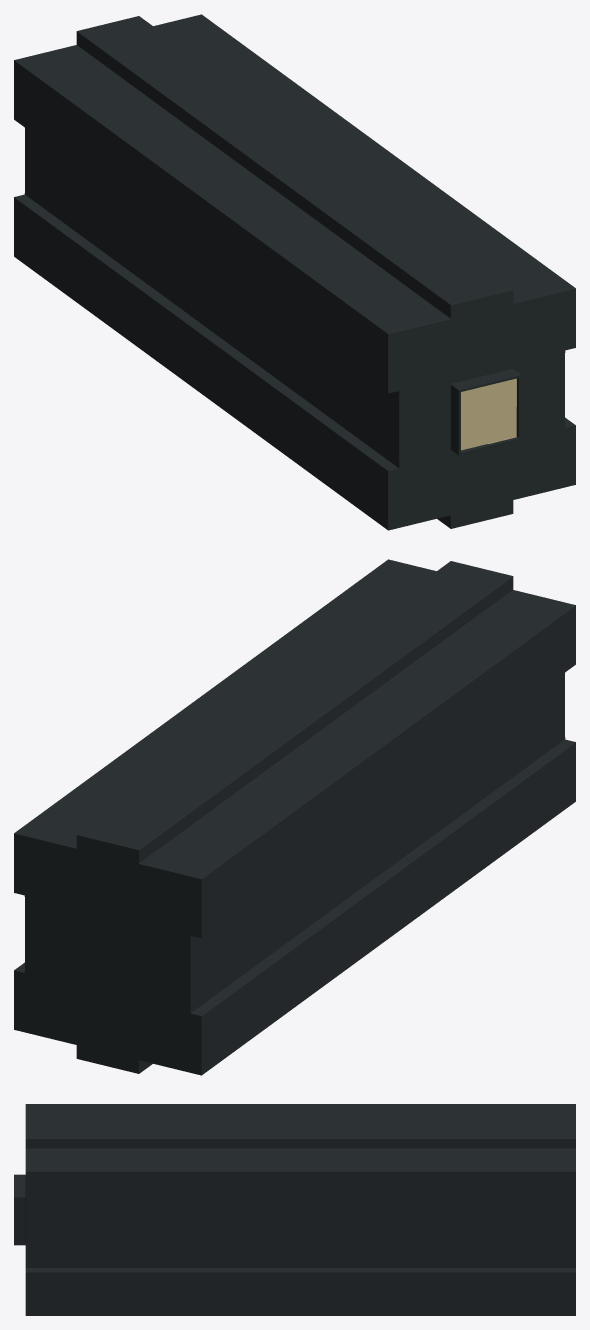
Rendered from h-block_2a.glb.
3 views of the same model, one above another, from view 1: azimuth 30°, elevation 25°; view 2: azimuth 150°, elevation 25°; view 3: azimuth 270°, elevation 25° (orthographic). The views are drawn at different scales.
Parts seen in each view (by area): view 1: Cube.009; view 2: Cube.009; view 3: Cube.009.
Part boxes in pixels (left/top/right/bottom): Cube.009: left=14, top=14, right=575, bottom=530; Cube.009: left=14, top=559, right=575, bottom=1075; Cube.009: left=14, top=1104, right=575, bottom=1315.
Size of the model in its own units: 1 by 1.14 by 3.52.
